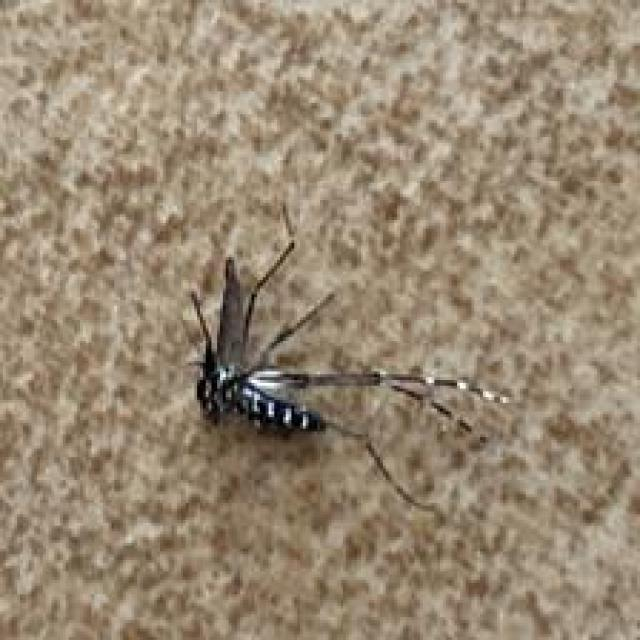Aedes albopictus: (183, 207, 517, 513)
